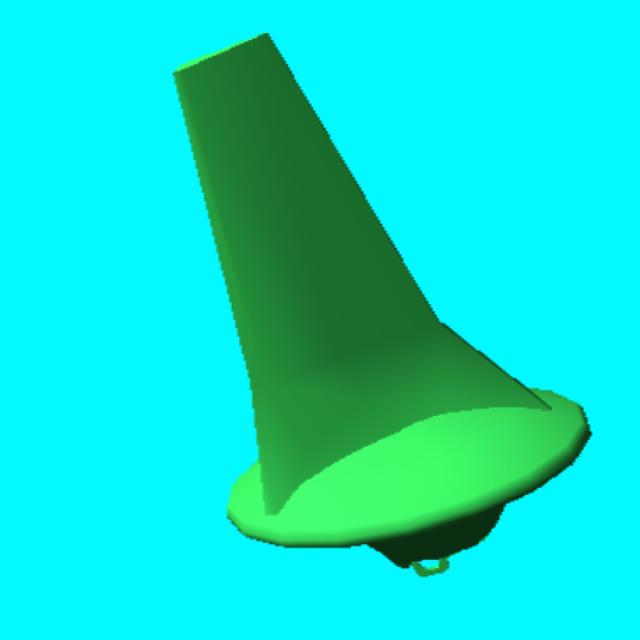GreenBuoy: (174, 35, 588, 566)
